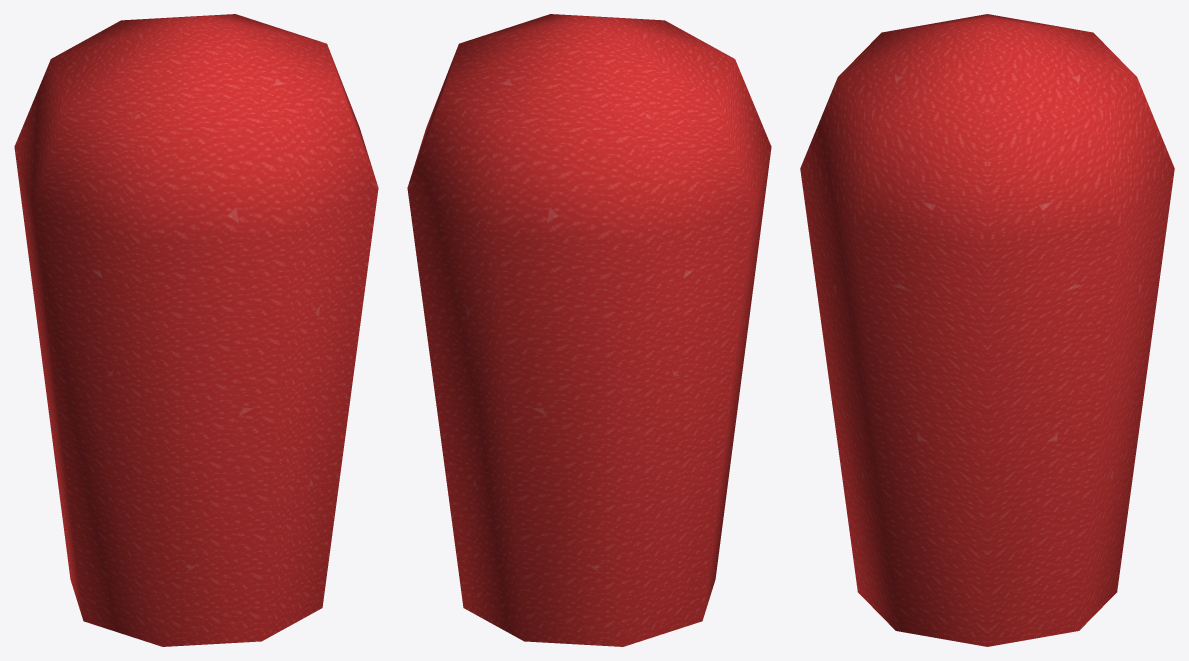
File: fff_drink_slush_red.FBX
The picture shows the model from 3 angles, left to right: view 1: azimuth 30°, elevation 25°; view 2: azimuth 150°, elevation 25°; view 3: azimuth 270°, elevation 25°; orthographic projection.
Visible parts, largest first — view 1: fff_drink_slush_red; view 2: fff_drink_slush_red; view 3: fff_drink_slush_red.
Part boxes in pixels (<box>): fff_drink_slush_red: <box>14,14,378,646</box>; fff_drink_slush_red: <box>407,14,771,646</box>; fff_drink_slush_red: <box>800,14,1174,646</box>.
Size of the model in its own units: 4.69 by 7.82 by 4.69.
